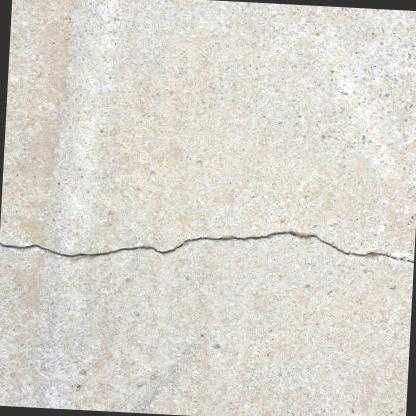crack: (0, 230, 414, 263)
